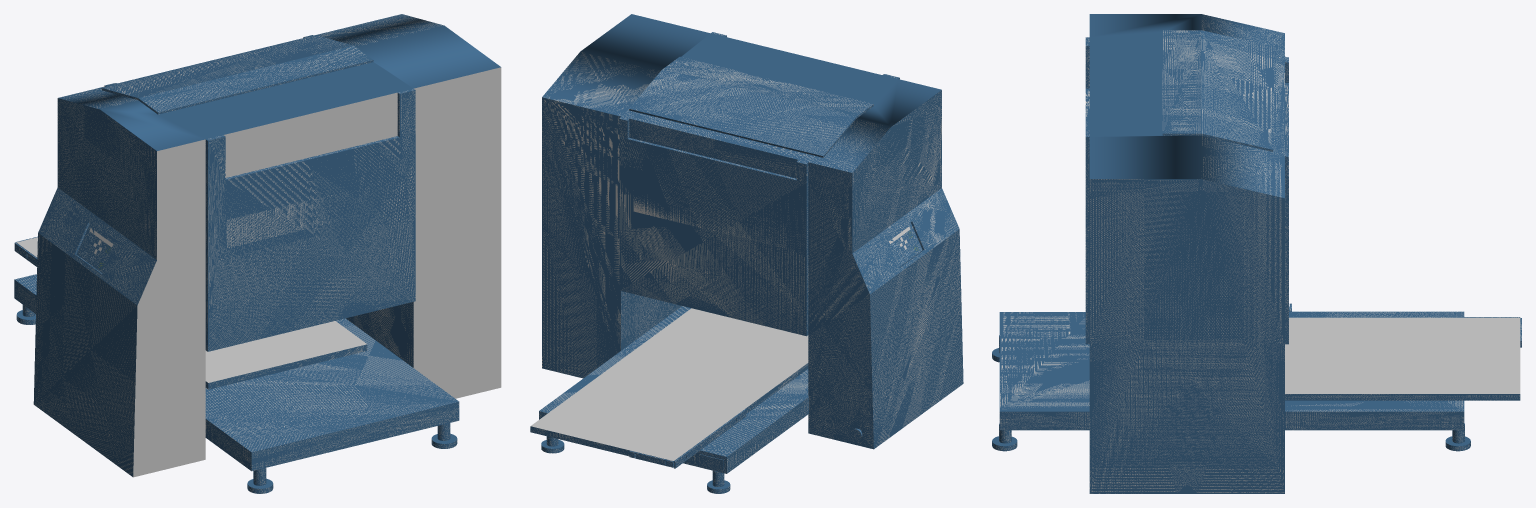
The picture shows the model from 3 angles, left to right: view 1: azimuth 30°, elevation 25°; view 2: azimuth 150°, elevation 25°; view 3: azimuth 270°, elevation 25°; orthographic projection. The views are drawn at different scales.
Parts seen in each view (by area): view 1: mesh2_mesh2-geometry, mesh3_mesh3-geometry, mesh5_mesh5-geometry, mesh1_mesh1-geometry; view 2: mesh2_mesh2-geometry, mesh3_mesh3-geometry, mesh1_mesh1-geometry, mesh6_mesh6-geometry; view 3: mesh2_mesh2-geometry, mesh3_mesh3-geometry.
Part boxes in pixels (<box>): mesh2_mesh2-geometry: <box>14,14,501,493</box>; mesh3_mesh3-geometry: <box>14,236,367,389</box>; mesh5_mesh5-geometry: <box>226,191,372,247</box>; mesh1_mesh1-geometry: <box>76,224,115,272</box>; mesh2_mesh2-geometry: <box>539,14,963,493</box>; mesh3_mesh3-geometry: <box>530,308,808,468</box>; mesh1_mesh1-geometry: <box>887,222,922,266</box>; mesh6_mesh6-geometry: <box>633,197,786,248</box>; mesh2_mesh2-geometry: <box>992,14,1470,493</box>; mesh3_mesh3-geometry: <box>1285,317,1521,400</box>.
Bounding box in the file's own units: 0.5499 × 0.4601 × 0.6971.
